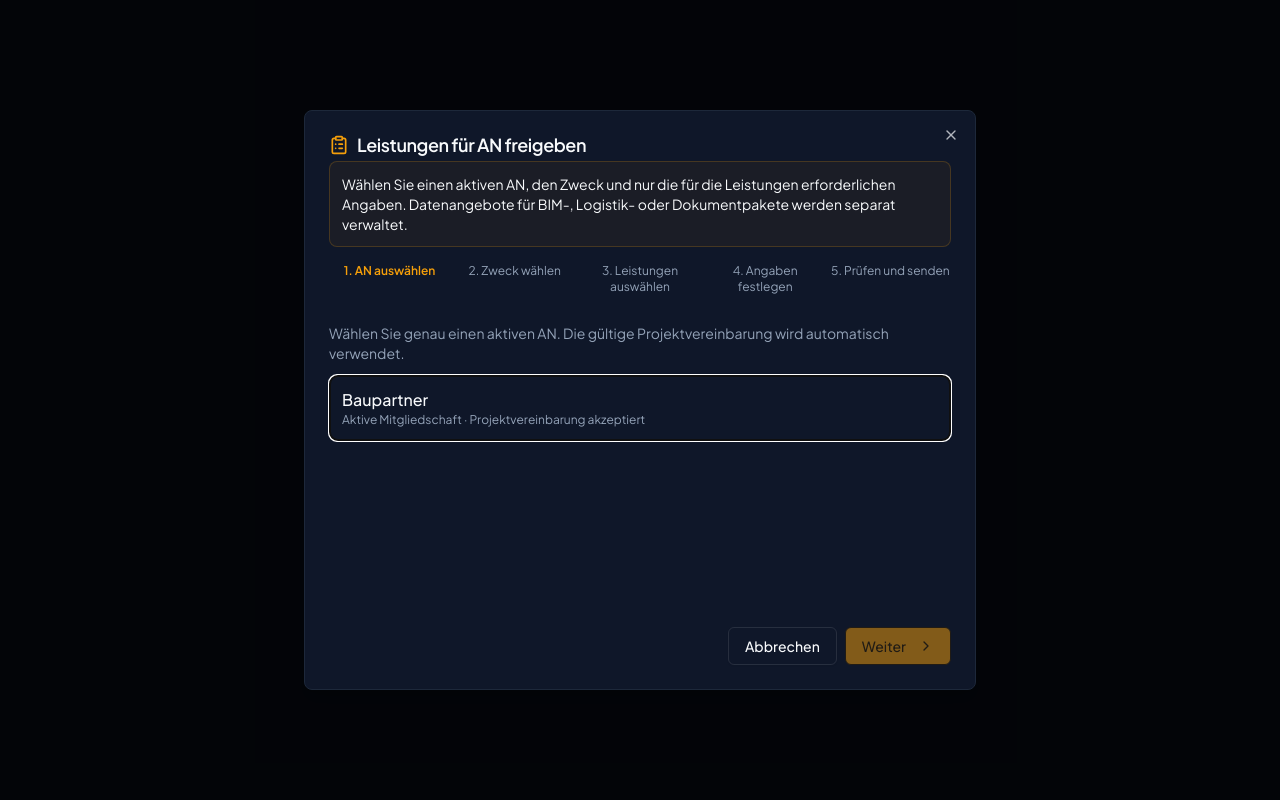
Test: DataPublicationWizard › fails closed when the selected parent policy is not concrete
The image size is (1280, 800).
Expected: the text "Baupartner" is shown, top-left (342, 389), bottom-right (428, 410)
Click the button "Baupartner": (385, 400) top-left (329, 375), bottom-right (951, 441)
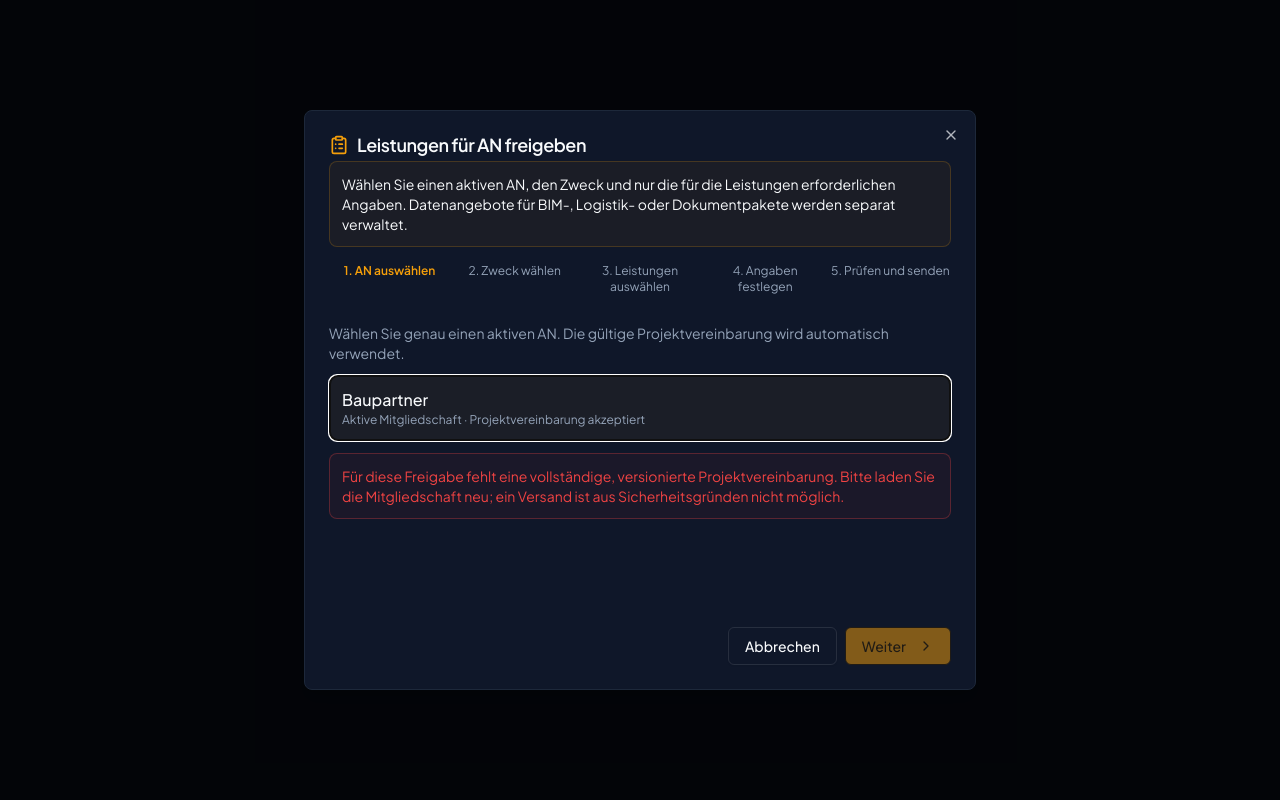
Expected: the button "Weiter" is disabled, top-left (845, 627), bottom-right (951, 665)
Expected: the message with test id "parent-policy-missing" shows "vollständige, versionierte Projektvereinbarung", top-left (342, 467), bottom-right (935, 505)
